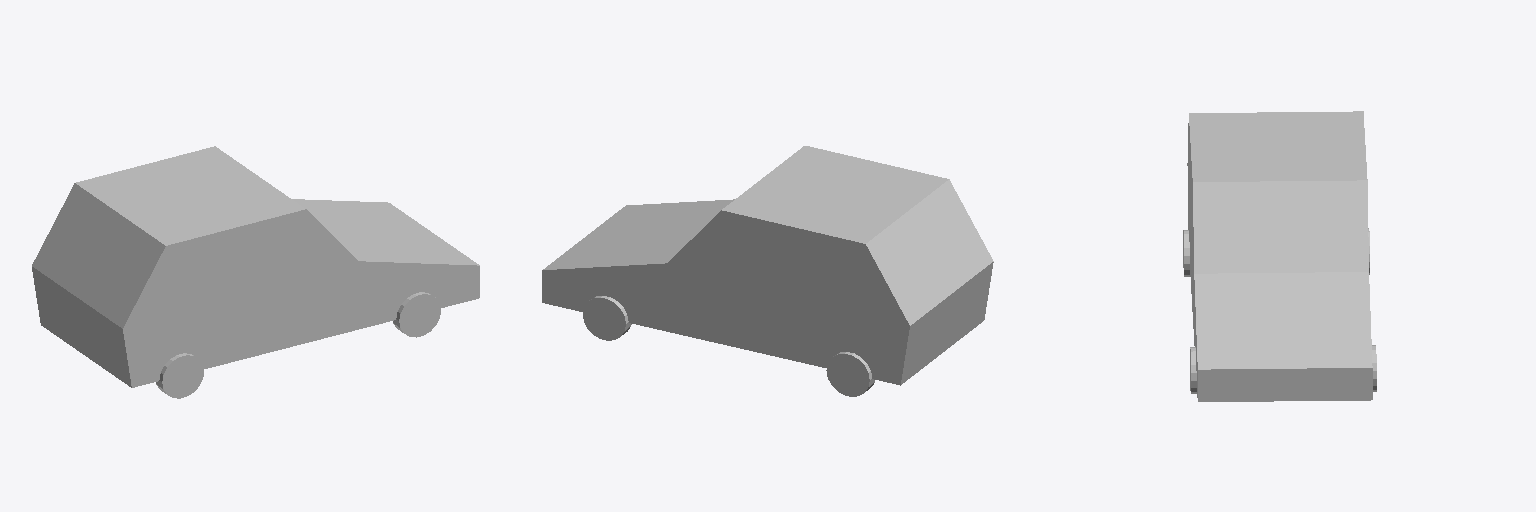
Rendered from car_1.obj.
3 renders of one model, left to right at view 1: azimuth 30°, elevation 25°; view 2: azimuth 150°, elevation 25°; view 3: azimuth 270°, elevation 25°, orthographic.
Visible parts, largest first — view 1: CAR_01; view 2: CAR_01; view 3: CAR_01.
Boxes of the visible parts, <box> form: CAR_01: <box>32,146,479,398</box>; CAR_01: <box>542,146,993,396</box>; CAR_01: <box>1183,111,1376,401</box>.
Size of the model in its own units: 1.84 by 0.7408 by 0.8439.